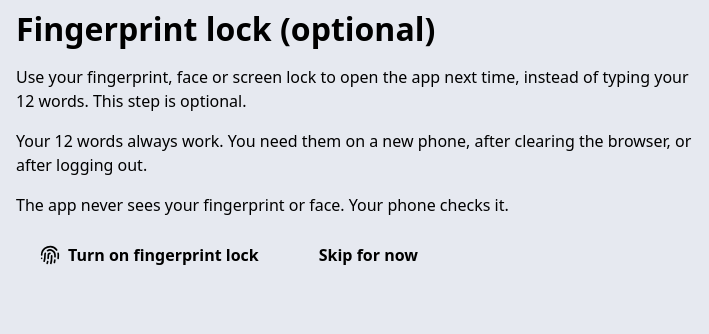
it: FingerprintScreen: turning on › cancelling the prompt is a calm note, not an error, and the buttons stay
Click the button "Turn on fingerprint lock".
click(149, 255)  # box [16,233,283,277]
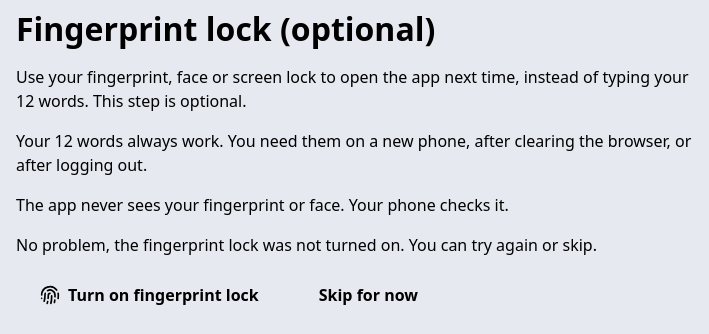
Expected: the button "Turn on fingerprint lock" is enabled, [16,273,283,317]
Expected: the text "No problem, the fingerprint lock was not turned on. You can try again or skip." is shown, [16,234,597,256]
